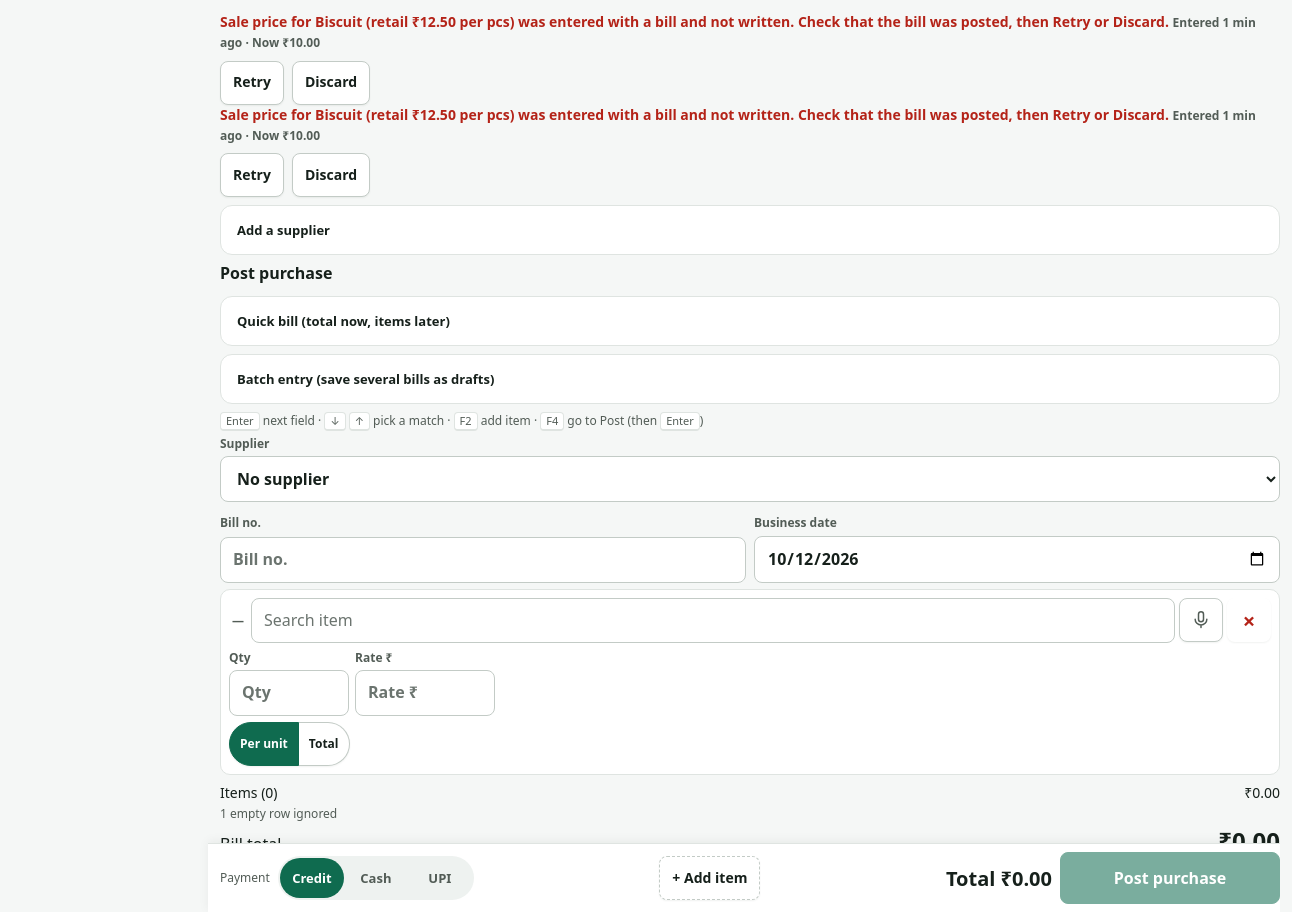
Test case: discarding removes the price from every stored plan of that bill
Expected: the date field named "date" holds "2026-10-12", x1=754 y1=536 x2=1280 y2=583
Expected: the number of messages is 2, x1=220 y1=12 x2=1280 y2=105; x1=220 y1=105 x2=1280 y2=197
Click the 1st button "Discard": (331, 83) x1=292 y1=61 x2=370 y2=105
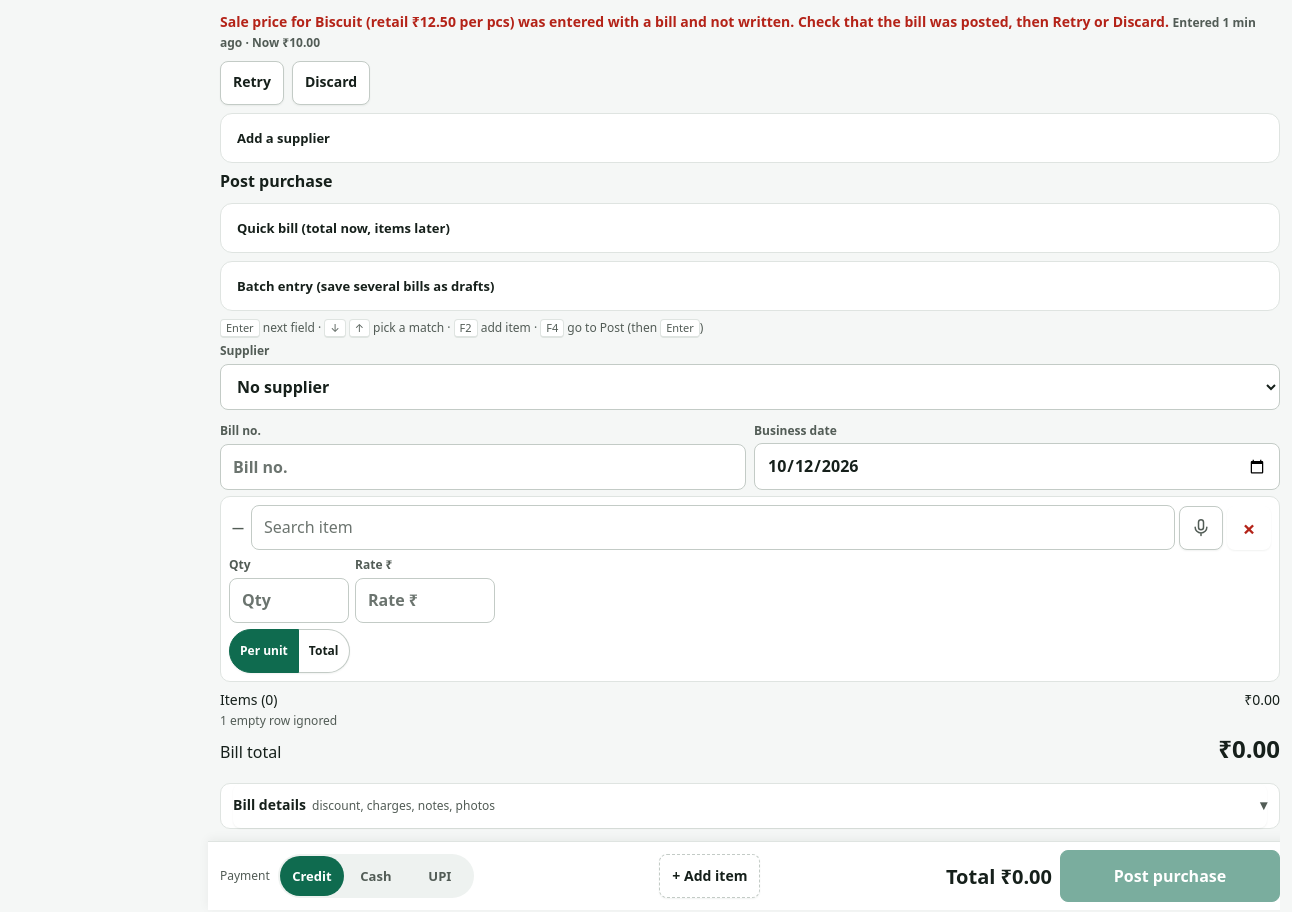
Click the button "Discard": (331, 83) x1=292 y1=61 x2=370 y2=105
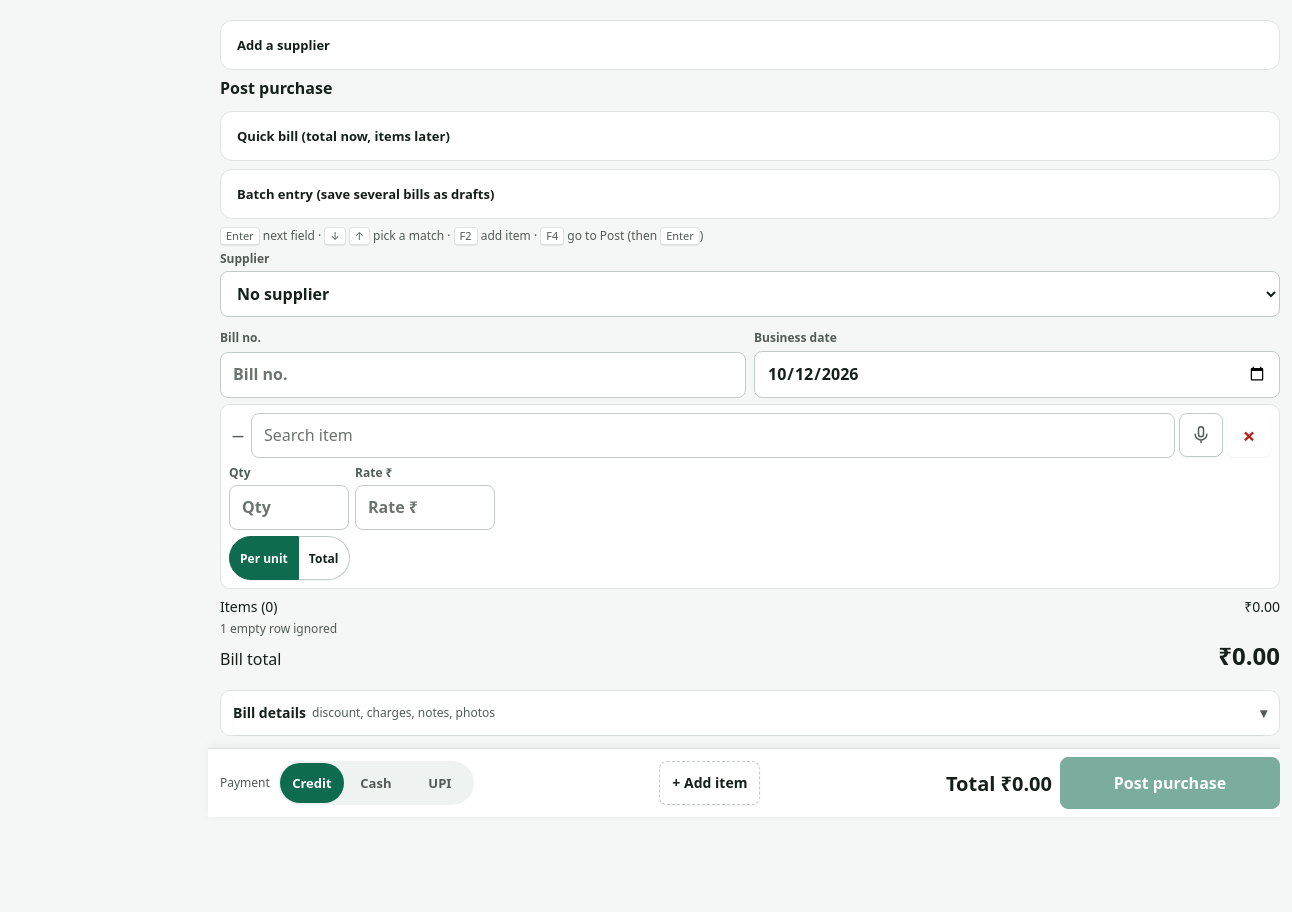
Expected: the message is gone
